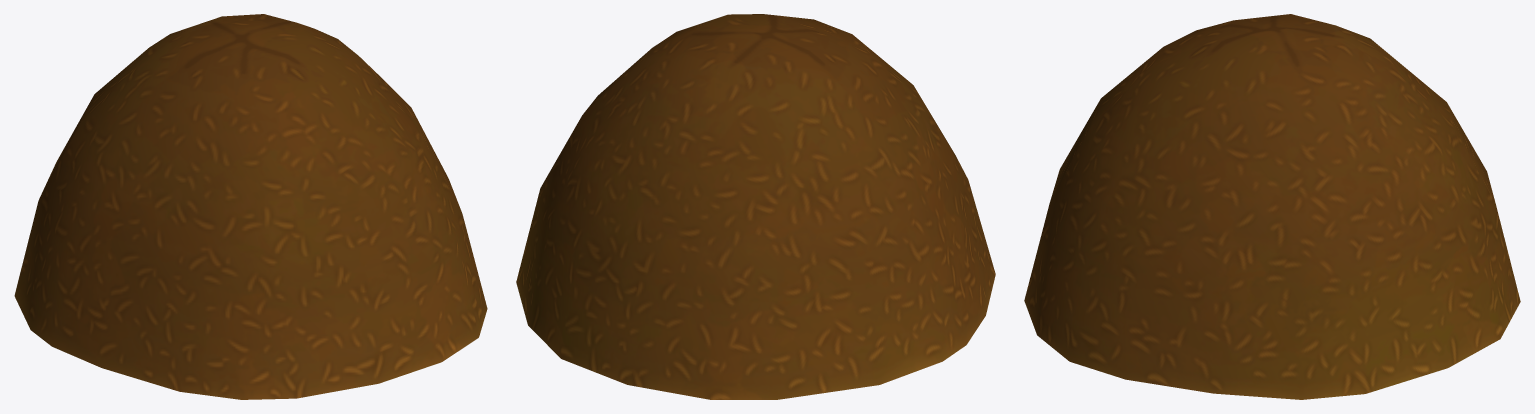
File: SM_KiwiCutBottom.fbx
3 views of the same model, side by side, from view 1: azimuth 30°, elevation 25°; view 2: azimuth 150°, elevation 25°; view 3: azimuth 270°, elevation 25° (orthographic). The views are drawn at different scales.
Visible parts, largest first — view 1: SM_KiwiCutBottom; view 2: SM_KiwiCutBottom; view 3: SM_KiwiCutBottom.
Part boxes in pixels (x1=…): SM_KiwiCutBottom: x1=14, y1=14, x2=487, y2=399; SM_KiwiCutBottom: x1=516, y1=14, x2=995, y2=399; SM_KiwiCutBottom: x1=1024, y1=14, x2=1520, y2=399.
Size of the model in its own units: 9.24 by 5.67 by 9.57.
Materials: 1 (1 with a texture image).
